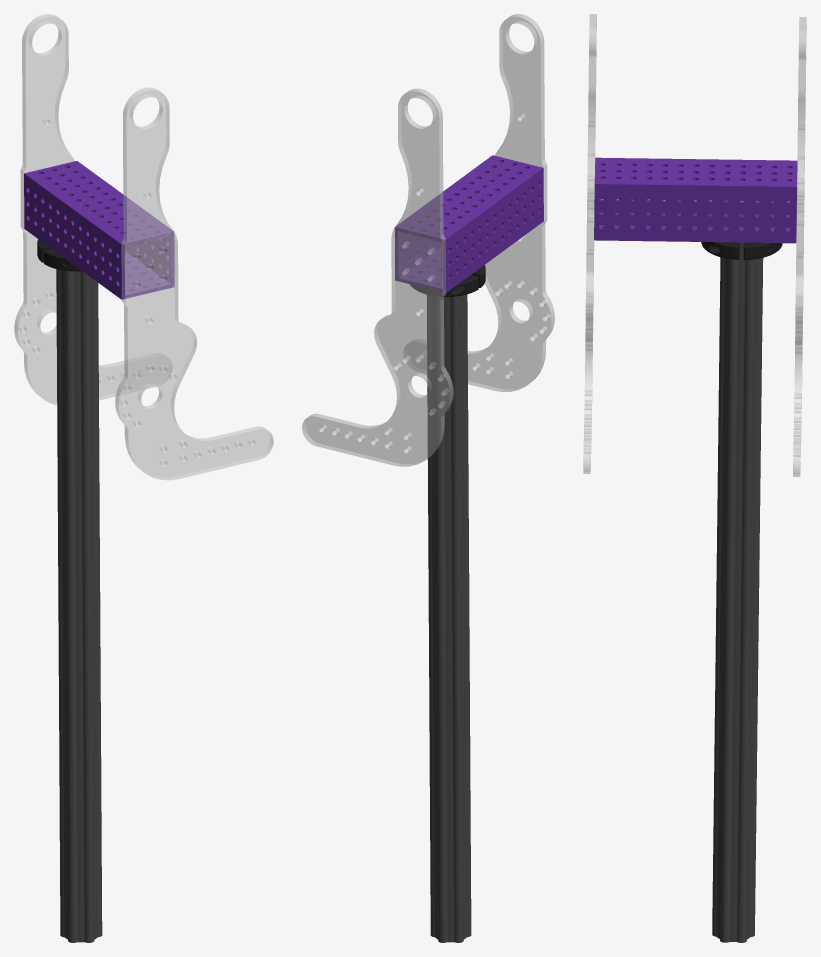
3 renders of one model, left to right at view 1: azimuth 30°, elevation 25°; view 2: azimuth 150°, elevation 25°; view 3: azimuth 270°, elevation 25°, orthographic. The views are drawn at different scales.
Visible parts, largest first — view 1: Part 2 (×2), SplineXL Tube (WCP-0918), Tube 2"x2"x6.5"; view 2: Part 2 (×2), SplineXL Tube (WCP-0918), Tube 2"x2"x6.5", REV-21-2581; view 3: SplineXL Tube (WCP-0918), Tube 2"x2"x6.5", Part 2 (×2), REV-21-2581 (×2).
Part boxes in pixels (x1=…): Part 2 (×2): x1=14, y1=14, x2=273, y2=480; SplineXL Tube (WCP-0918): x1=56, y1=269, x2=102, y2=942; Tube 2"x2"x6.5": x1=24, y1=161, x2=174, y2=299; Part 2 (×2): x1=302, y1=14, x2=554, y2=466; SplineXL Tube (WCP-0918): x1=427, y1=294, x2=471, y2=942; Tube 2"x2"x6.5": x1=394, y1=155, x2=543, y2=292; REV-21-2581: x1=410, y1=274, x2=478, y2=296; SplineXL Tube (WCP-0918): x1=712, y1=242, x2=763, y2=942; Tube 2"x2"x6.5": x1=594, y1=157, x2=797, y2=243; Part 2 (×2): x1=583, y1=14, x2=806, y2=476; REV-21-2581 (×2): x1=701, y1=242, x2=782, y2=259.
Bounding box in the file's own units: 0.1496 × 0.8253 × 0.1822.
